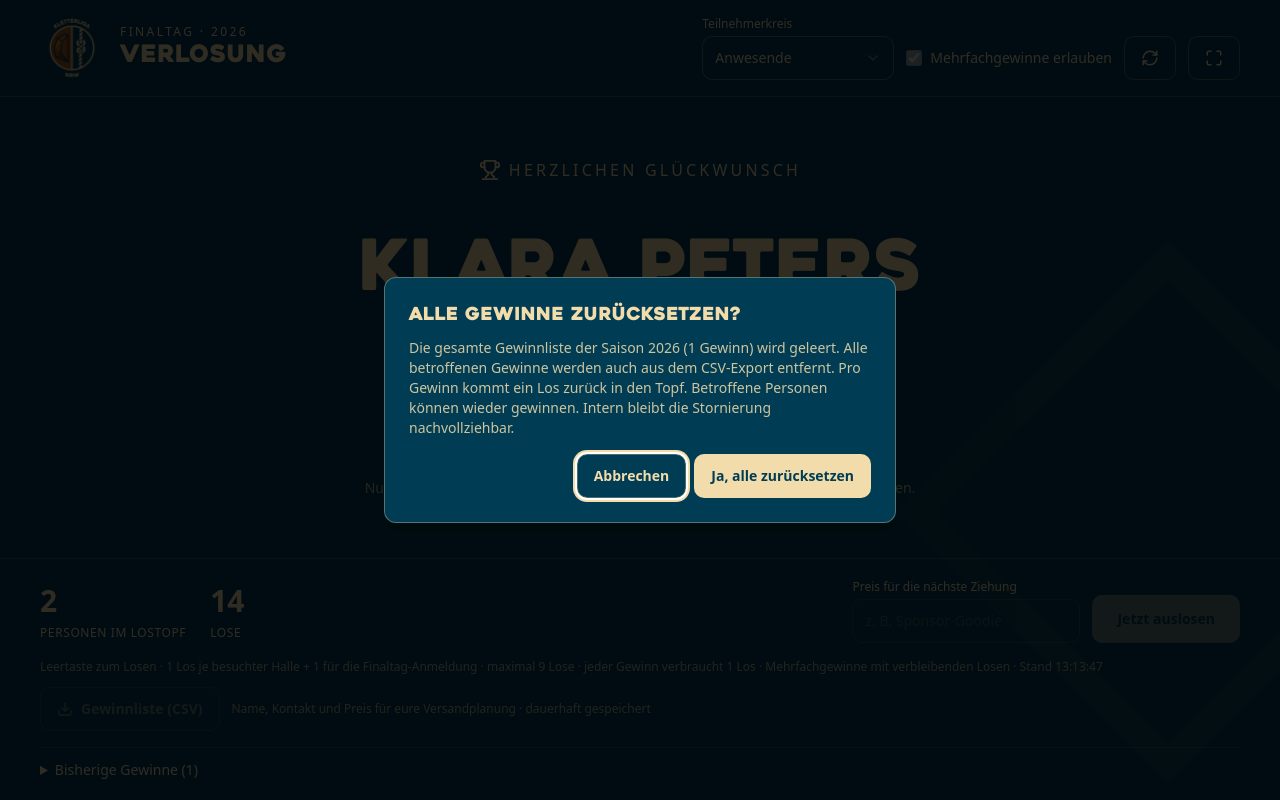
TV raffle › refuses a reset if the live history changed and requires a fresh confirmation
Earlier steps of the test are not shown.
Click the button "Ja, alle zurücksetzen": (783, 476) [694,454,871,498]
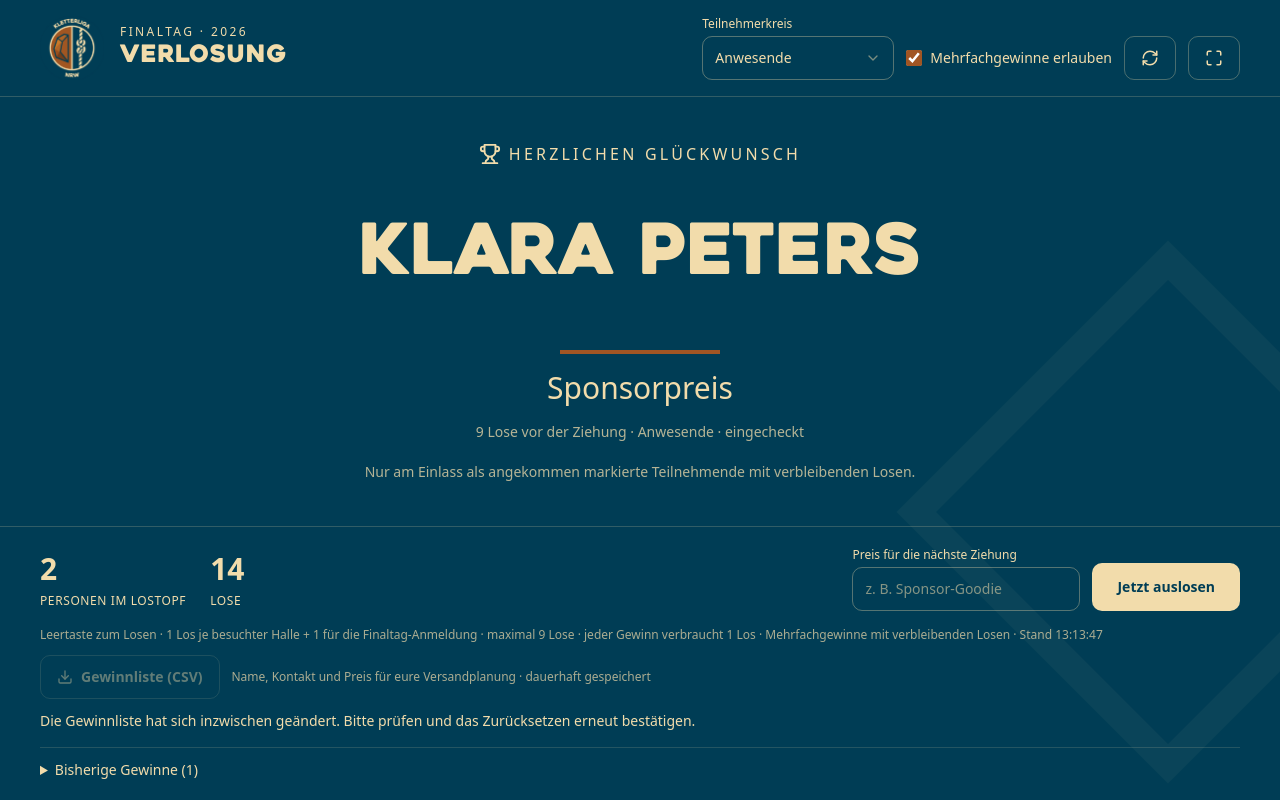
Check: the dialog is gone
Check: the message shows "inzwischen geändert", box [40,711,695,730]
